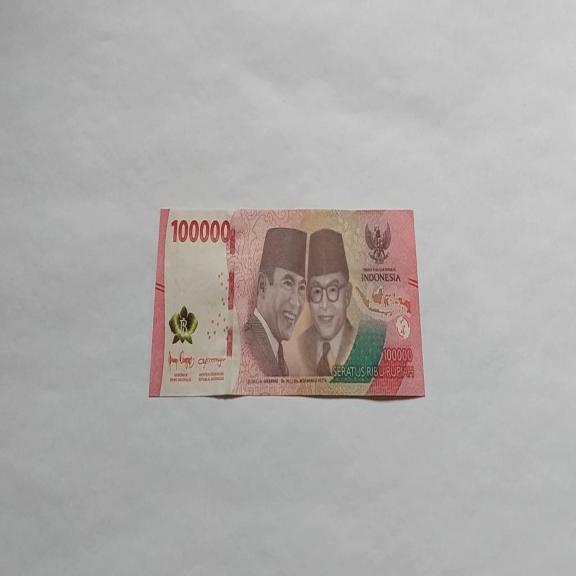Kertas: (148, 206, 426, 400), (170, 216, 231, 245)
